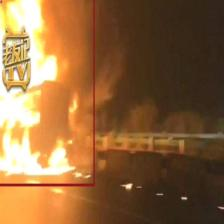fire: (0, 0, 94, 185)
